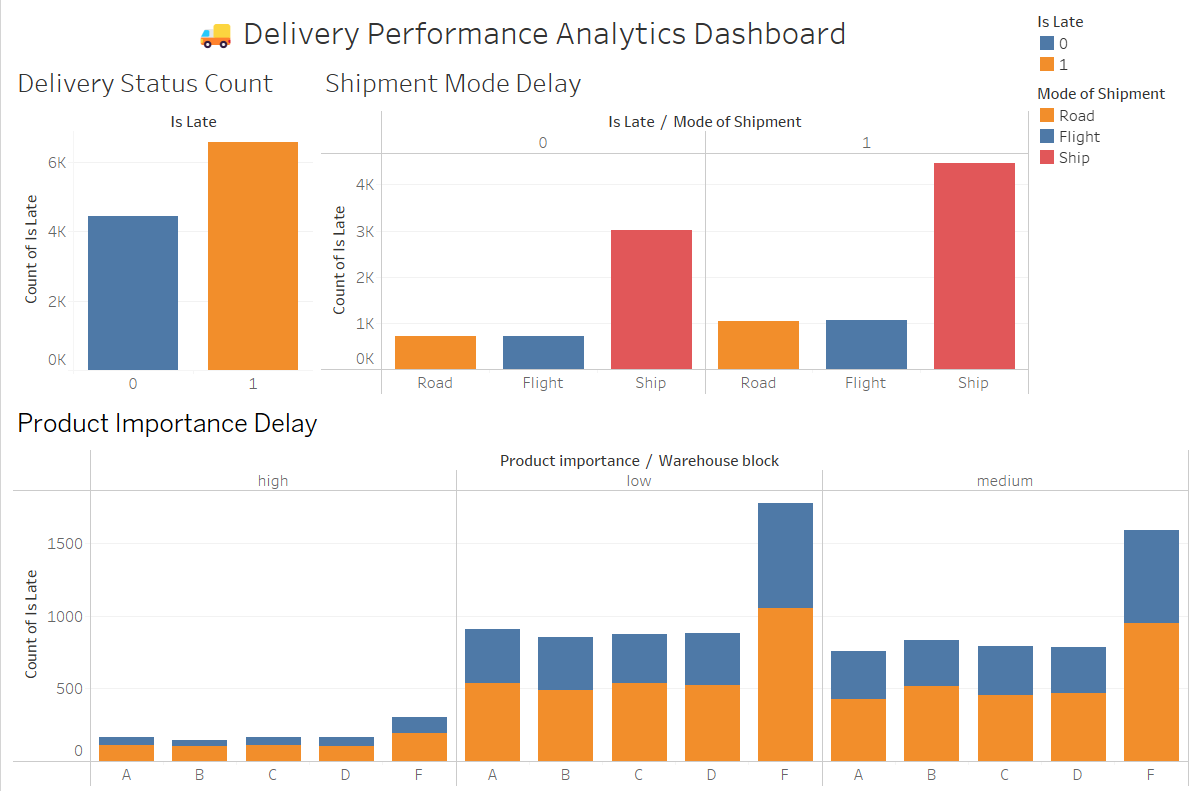

This screenshot's page, from the dashboard's own definition file:
{"tool":"tableau","page":{"name":"Delivery Analytics Dashboard","canvas":[1200,800],"ordinal":0},"visuals":[{"type":"title","box":[8,8,1024,50]},{"type":"legend","title":"Delivery Status Count","param":"[federated.1uevmrl1kzhdis15ebld903rso0j].[none:IsLate:ok]","box":[1032,8,160,72]},{"type":"worksheet","title":"Delivery Status Count","mark":"Automatic","rows":["IsLate"],"cols":["IsLate"],"box":[8,58,308,342]},{"type":"worksheet","title":"Shipment Mode Delay","mark":"Automatic","rows":["IsLate"],"cols":["IsLate","Mode_of_Shipment"],"box":[316,58,716,342]},{"type":"legend","title":"Shipment Mode Delay","param":"[federated.1uevmrl1kzhdis15ebld903rso0j].[none:Mode_of_Shipment:nk]","box":[1032,80,160,93]},{"type":"worksheet","title":"Product Importance Delay","mark":"Automatic","rows":["IsLate"],"cols":["Product_importance","Warehouse_block"],"box":[8,400,1184,392]}]}

Visuals, with their boxes in screenshot pixels (x1, y1, x2, y2), scaled from the page's 1200x800 canvas onto the 1196x791 screenshot:
title: (8,8,1029,57)
"Delivery Status Count" legend: (1029,8,1188,79)
"Delivery Status Count" worksheet: (8,57,315,396)
"Shipment Mode Delay" worksheet: (315,57,1029,396)
"Shipment Mode Delay" legend: (1029,79,1188,171)
"Product Importance Delay" worksheet: (8,396,1188,783)
